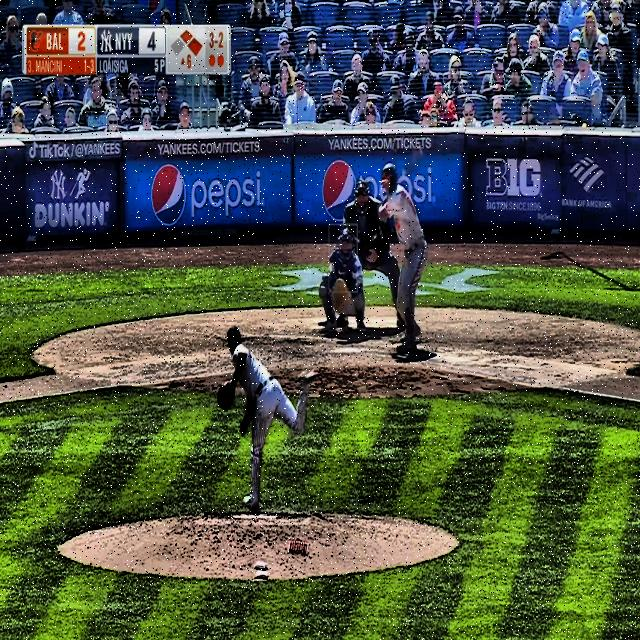baseball: (319, 284, 327, 296)
